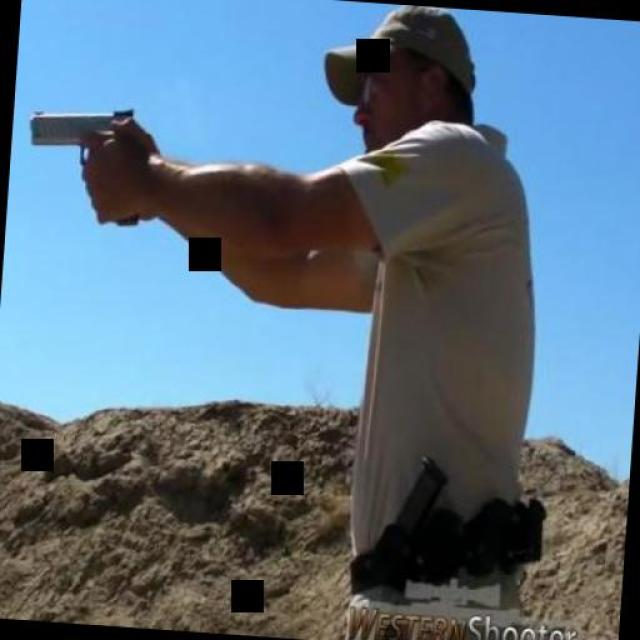gun: (20, 99, 152, 229)
